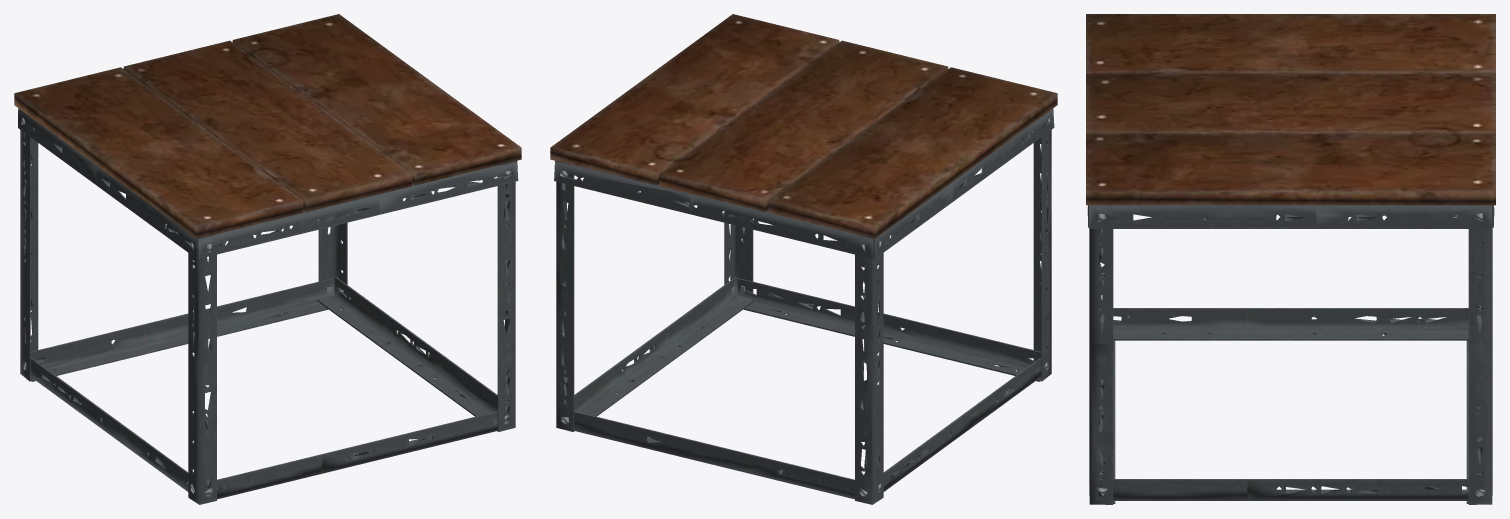
File: ctable_iron.glb
The picture shows the model from 3 angles, left to right: view 1: azimuth 30°, elevation 25°; view 2: azimuth 150°, elevation 25°; view 3: azimuth 270°, elevation 25°; orthographic projection. The views are drawn at different scales.
Visible parts, largest first — view 1: industrial_coffee_table; view 2: industrial_coffee_table; view 3: industrial_coffee_table.
Boxes of the visible parts, bbox=[...] form: industrial_coffee_table: bbox=[14, 14, 521, 504]; industrial_coffee_table: bbox=[550, 14, 1057, 504]; industrial_coffee_table: bbox=[1086, 14, 1495, 504].
Size of the model in its own units: 0.7723 by 0.6375 by 0.752.
Materials: 1 (1 with a texture image).
